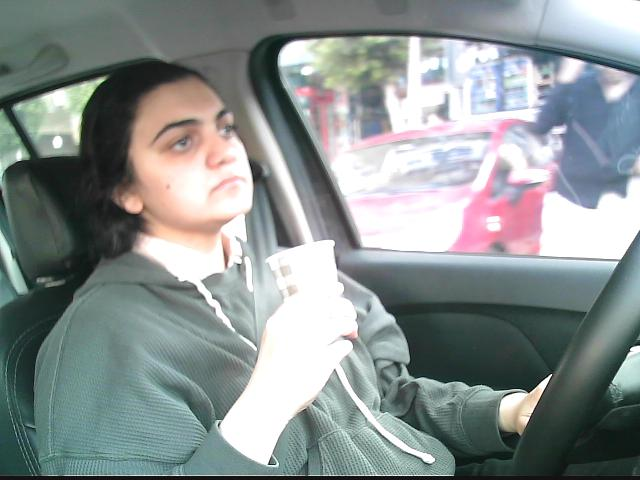Drinking: (265, 237, 353, 333)
